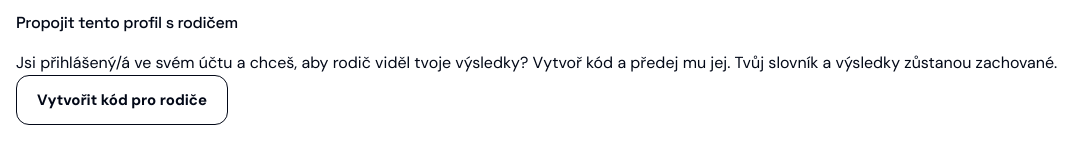
Test: shows a failed code generation and allows retry instead of displaying a fake code
Click the button "Vytvořit kód pro rodiče" at coordinates (122, 100), box [16,75,228,125]
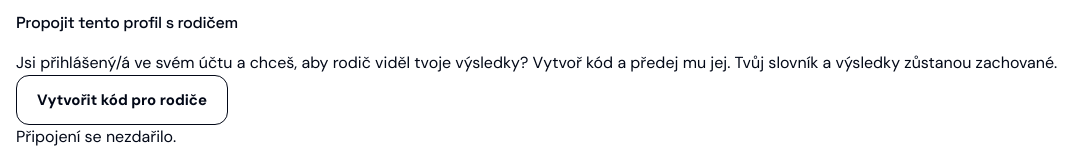
Expected: the text "Připojení se nezdařilo." is shown, [16,126,176,147]
